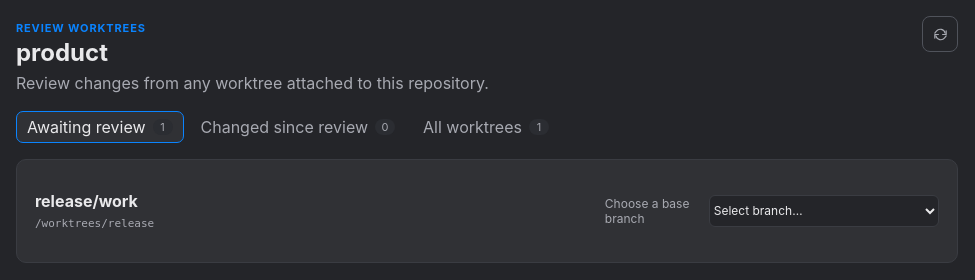
Test: worktree review queue › requires a valid base choice when no stored or suggested base exists
The width and height of the screenshot is (975, 280).
Select "release" in the dropdown named "Base branch for /worktrees/release" at (824, 211), box [709, 195, 939, 227]
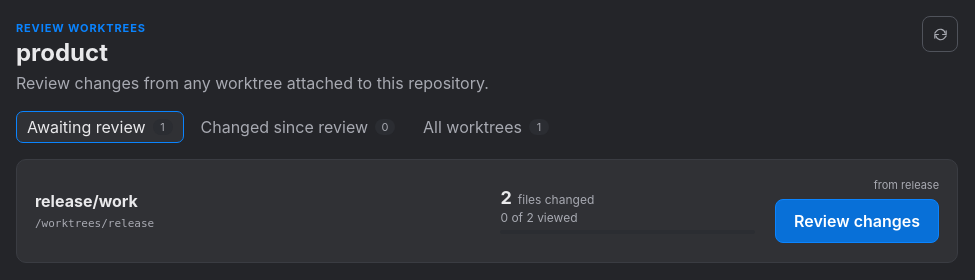
Result: the button with aria-label "Review release/work" is shown at [775, 199, 939, 243]
